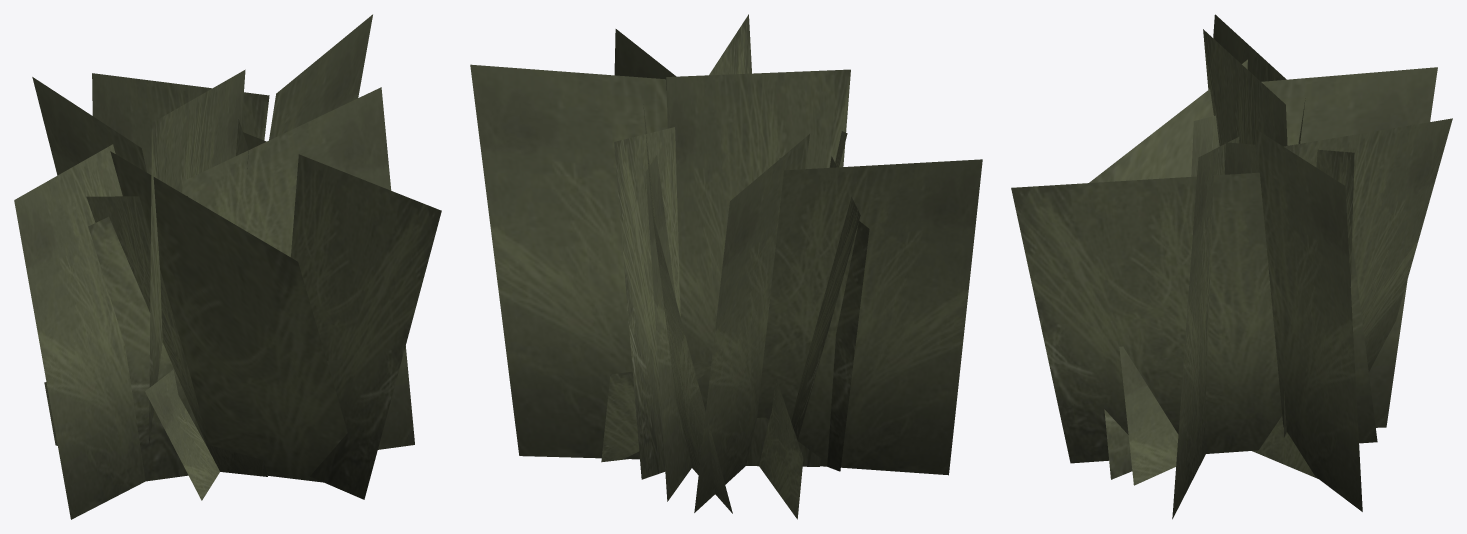
File: pir_m_prp_vol_bush_b.fbx
The picture shows the model from 3 angles, left to right: view 1: azimuth 30°, elevation 25°; view 2: azimuth 150°, elevation 25°; view 3: azimuth 270°, elevation 25°; orthographic projection. The views are drawn at different scales.
Visible parts, largest first — view 1: bush_plane08, bush_plane02, bush_plane011, bush_plane07, bush_plane03, bush_plane09, bush_plane01, bush_plane05, bush_plane010, bush_plane06; view 2: bush_plane05, bush_plane011, bush_plane03, bush_plane010, bush_plane04, bush_plane02, bush_plane07, bush_plane01, bush_plane09, bush_plane012, bush_plane06; view 3: bush_plane02, bush_plane05, bush_plane01, bush_plane010, bush_plane07, bush_plane08, bush_plane03, bush_plane012, bush_plane04, bush_plane011, bush_plane06, bush_plane09.
Boxes of the visible parts, x1,y1,x2,y2 form: bush_plane08: (110, 151, 347, 482); bush_plane02: (243, 132, 441, 499); bush_plane011: (14, 144, 145, 519); bush_plane07: (88, 87, 414, 481); bush_plane03: (149, 69, 245, 445); bush_plane09: (86, 196, 267, 476); bush_plane01: (92, 73, 269, 174); bush_plane05: (269, 14, 372, 140); bush_plane010: (32, 77, 146, 175); bush_plane06: (145, 369, 219, 500); bush_plane05: (470, 64, 667, 459); bush_plane011: (757, 159, 982, 475); bush_plane03: (666, 69, 850, 466); bush_plane010: (694, 134, 809, 512); bush_plane04: (614, 127, 680, 479); bush_plane02: (645, 14, 751, 501); bush_plane07: (614, 29, 869, 471); bush_plane01: (643, 104, 732, 513); bush_plane09: (791, 156, 860, 440); bush_plane012: (759, 378, 803, 519); bush_plane06: (601, 361, 711, 462); bush_plane02: (1011, 172, 1377, 463); bush_plane05: (1255, 129, 1362, 511); bush_plane01: (1284, 118, 1452, 437); bush_plane010: (1261, 67, 1437, 427); bush_plane07: (1172, 137, 1239, 519); bush_plane08: (1089, 59, 1247, 479); bush_plane03: (1203, 29, 1287, 146); bush_plane012: (1119, 346, 1178, 485); bush_plane04: (1224, 142, 1354, 286); bush_plane011: (1213, 14, 1305, 143); bush_plane06: (1252, 416, 1317, 478); bush_plane09: (1191, 115, 1219, 176).
Bounding box in the file's own units: 460 × 384 × 416.
Materials: 1 (1 with a texture image).
